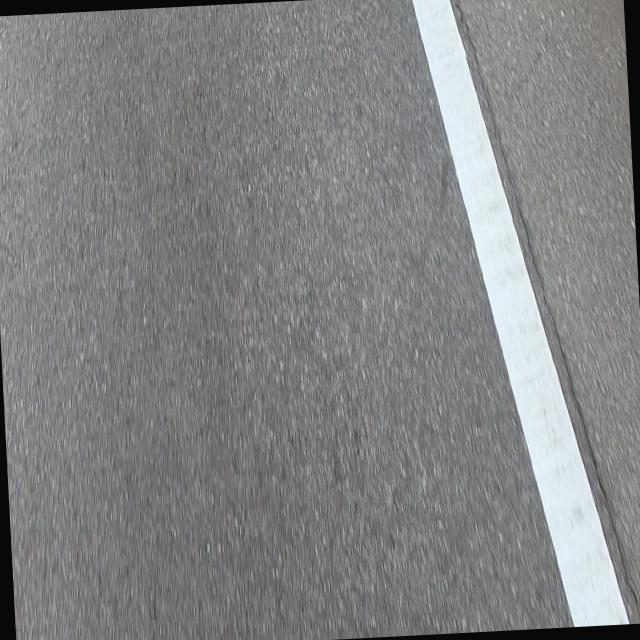Retak-Memanjang: (452, 0, 640, 624)
